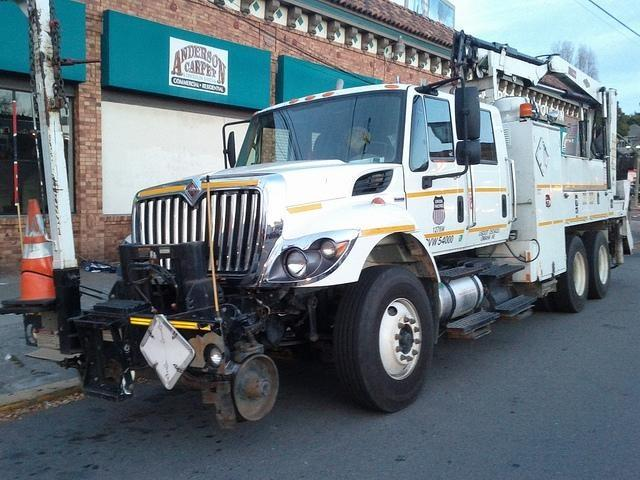truck: (70, 36, 635, 430)
